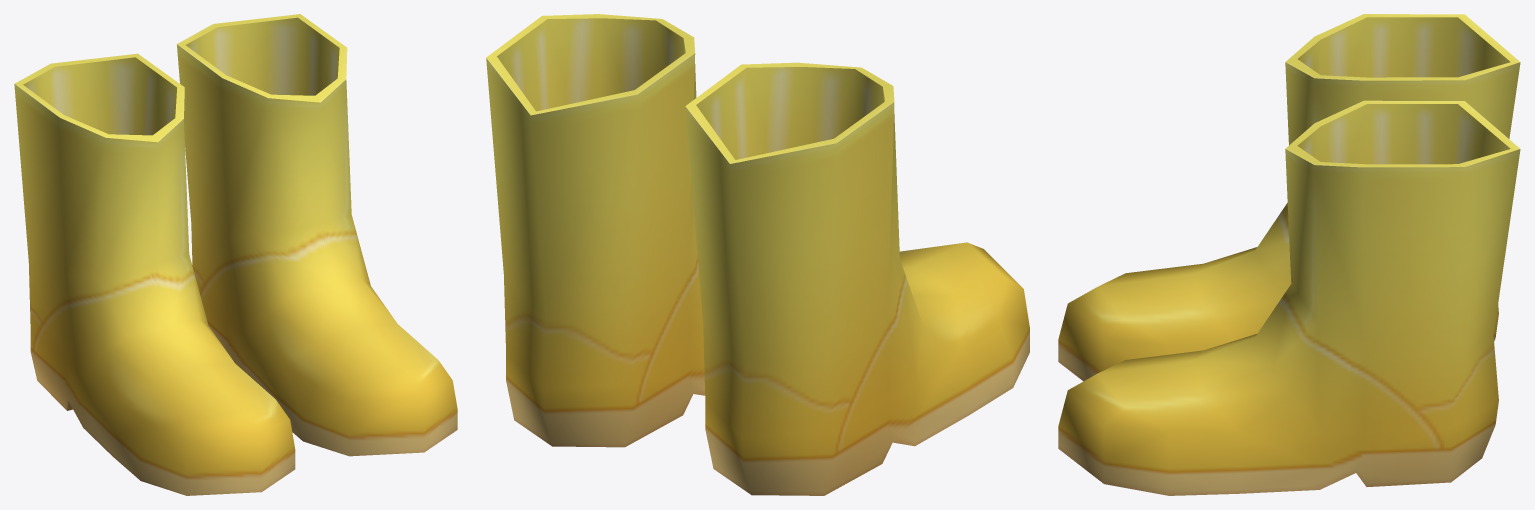
File: set_rainboots_01.fbx
3 views of the same model, side by side, from view 1: azimuth 30°, elevation 25°; view 2: azimuth 150°, elevation 25°; view 3: azimuth 270°, elevation 25° (orthographic). The views are drawn at different scales.
Visible parts, largest first — view 1: rainboots_01_R, rainboots_01_L; view 2: rainboots_01_R, rainboots_01_L; view 3: rainboots_01_L, rainboots_01_R.
Part boxes in pixels (x1,y1,x2,y2): rainboots_01_R: (14,53,295,495); rainboots_01_L: (177,14,457,456); rainboots_01_R: (685,62,1029,495); rainboots_01_L: (486,14,705,447); rainboots_01_L: (1058,100,1520,495); rainboots_01_R: (1058,14,1520,381).
Bounding box in the file's own units: 20.89 × 19.47 × 25.15.
